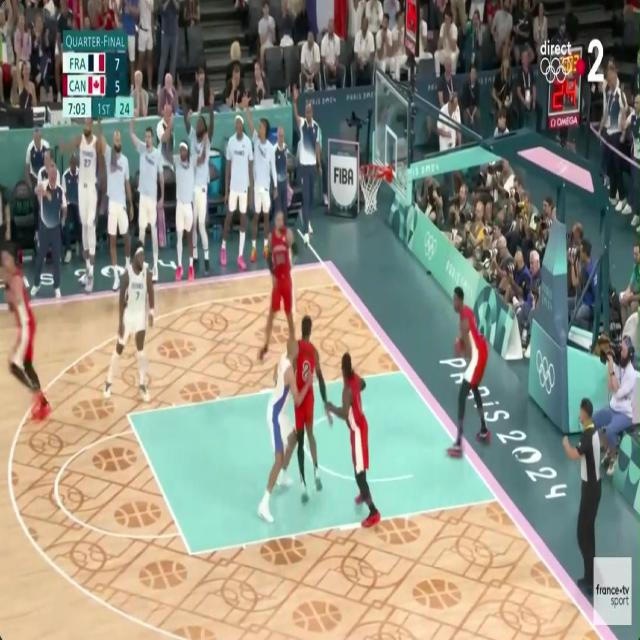ball_handler: (442, 276, 494, 468)
